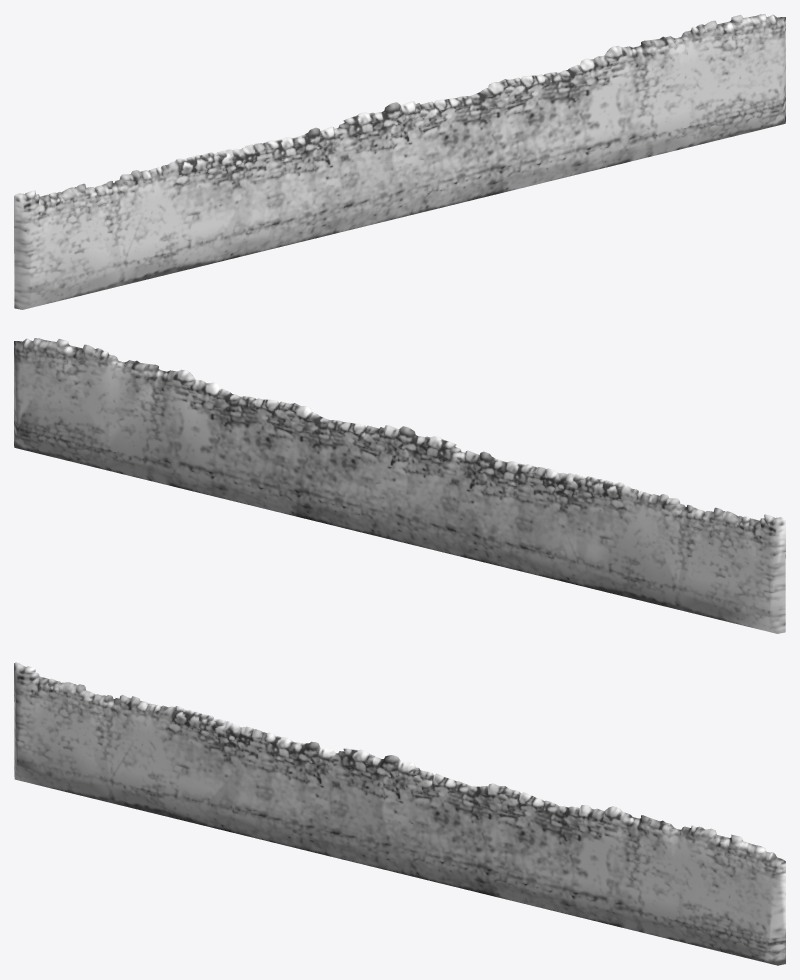
The model's file is Ruins_BigWall.fbx.
3 renders of one model, top to bottom at view 1: azimuth 30°, elevation 25°; view 2: azimuth 150°, elevation 25°; view 3: azimuth 330°, elevation 25°, orthographic.
Visible parts, largest first — view 1: Ruins_BigWall; view 2: Ruins_BigWall; view 3: Ruins_BigWall.
Part boxes in pixels (<box>): Ruins_BigWall: <box>14,14,785,309</box>; Ruins_BigWall: <box>14,338,785,633</box>; Ruins_BigWall: <box>14,662,785,965</box>.
Size of the model in its own units: 2434 by 353 by 77.55.
